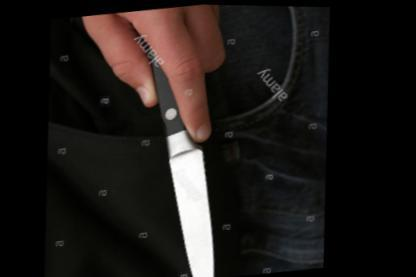knife: (118, 44, 255, 275)
